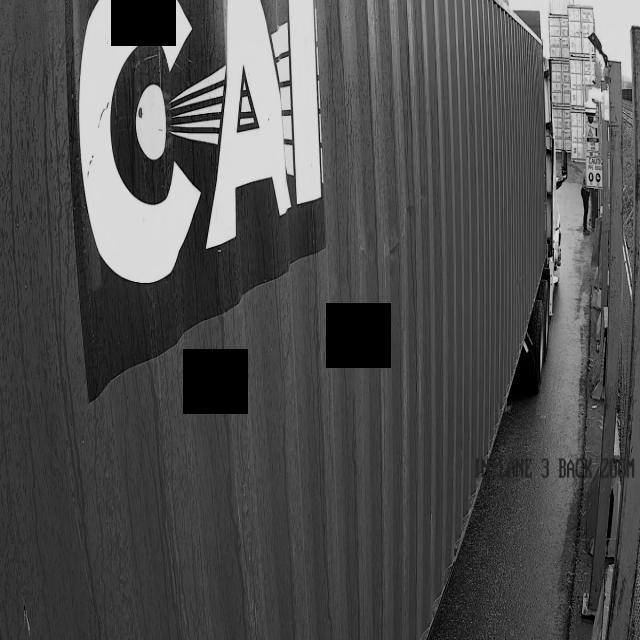container_company_logo: (53, 0, 405, 321)
truck_with_container: (0, 0, 558, 640)
